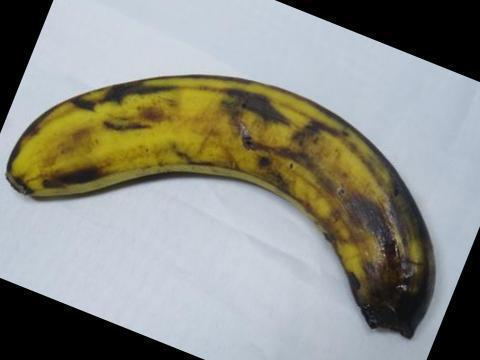overripe: (7, 53, 447, 354)
rotten: (327, 204, 436, 343)
